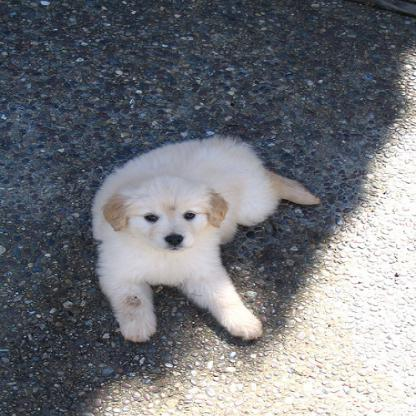dog: (89, 135, 322, 343)
